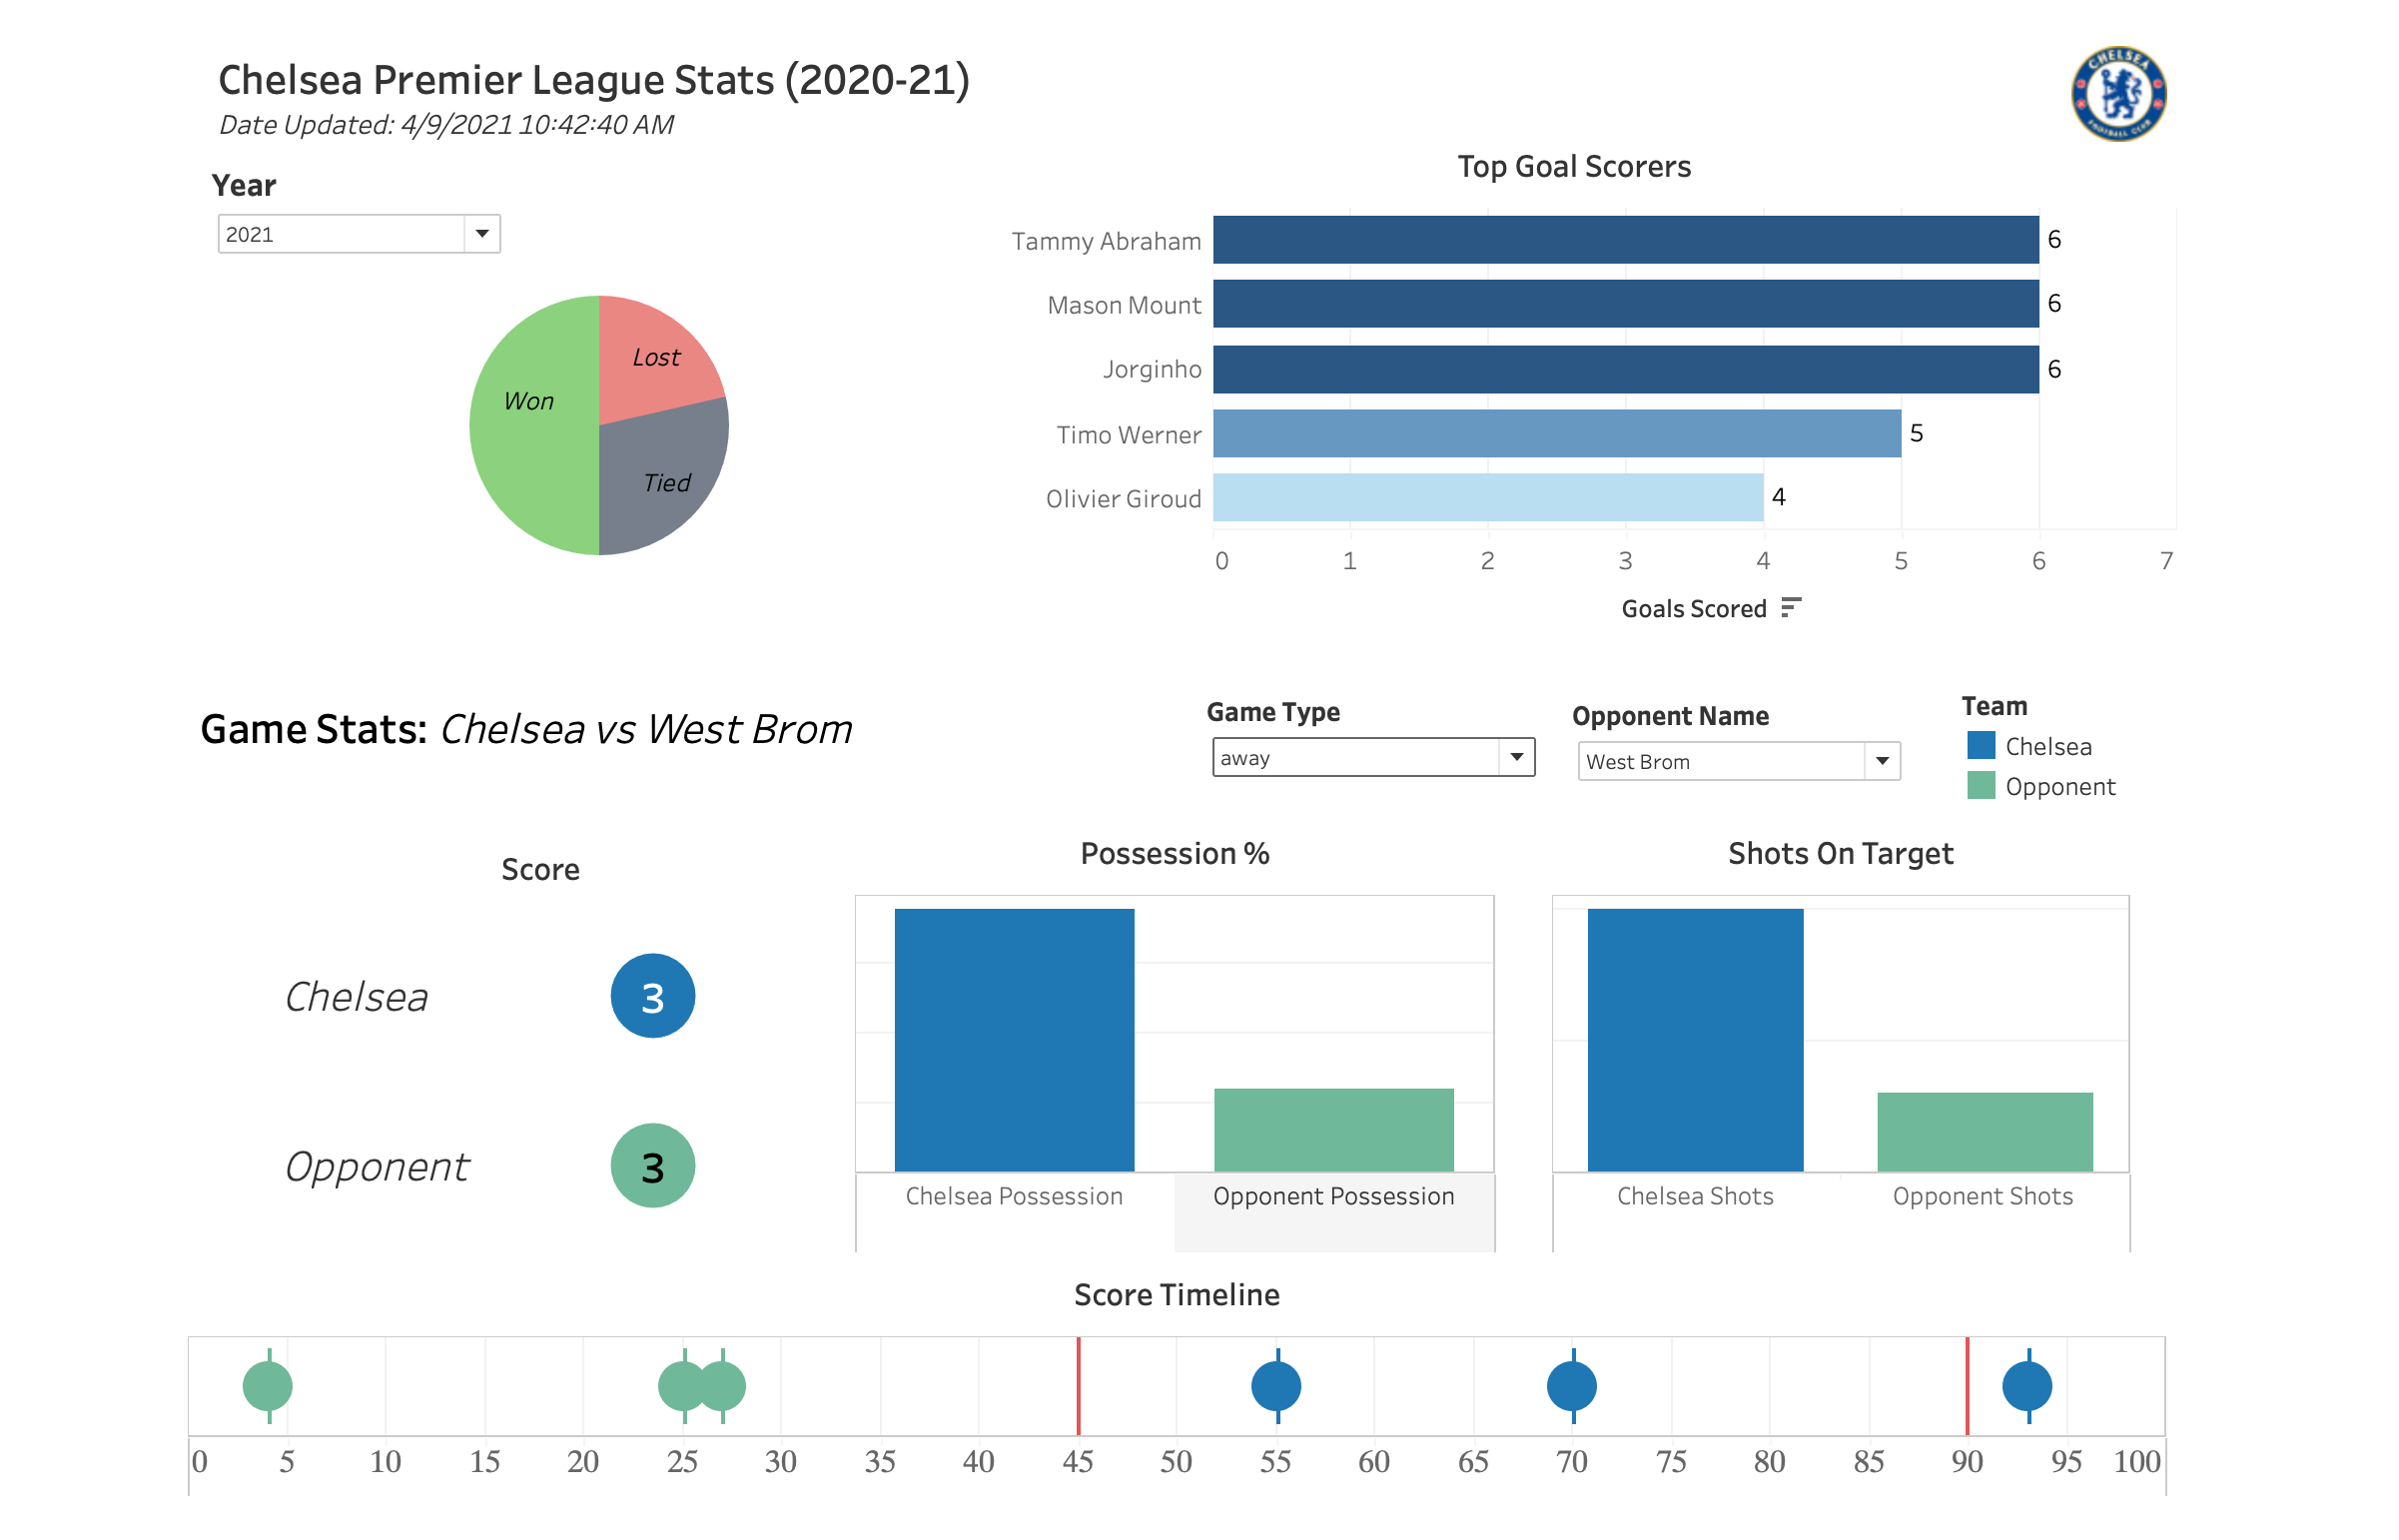

This screenshot's page, from the dashboard's own definition file:
{"tool":"tableau","page":{"name":"Chelsea Dashboard","canvas":[1024,768],"ordinal":0},"visuals":[{"type":"worksheet","box":[0,0,1024,768]},{"type":"worksheet","param":"horz","box":[8,8,1008,752]},{"type":"worksheet","box":[8,8,1008,752]},{"type":"worksheet","title":"Header","mark":"Automatic","box":[8,8,1008,752]},{"type":"worksheet","param":"/Users/onkar/dev/github/epl_dash/dashboard/ChelseaLogo.png","box":[944,14,57,48]},{"type":"worksheet","title":"Top","mark":"Automatic","rows":["PlayerName (players.csv1)"],"cols":["PlayerName (players.csv1)"],"box":[394,59,603,252]},{"type":"worksheet","title":"Results","mark":"Pie","param":"[federated.1bxjs3q0un518j14tn4vx160jbp3].[yr:Date:ok]","box":[13,73,148,81]},{"type":"worksheet","title":"Goals","mark":"Pie","param":"[federated.1bxjs3q0un518j14tn4vx160jbp3].[:Measure Names]","box":[889,335,134,59]},{"type":"worksheet","title":"Dyna","mark":"Automatic","box":[3,336,1018,63]},{"type":"worksheet","title":"Dyna","mark":"Automatic","param":"[federated.1bxjs3q0un518j14tn4vx160jbp3].[none:GameType:nk]","box":[511,338,168,53]},{"type":"worksheet","title":"Poss","mark":"Automatic","cols":["TeamName"],"param":"[federated.1bxjs3q0un518j14tn4vx160jbp3].[none:TeamName:nk]","box":[694,340,168,53]},{"type":"worksheet","title":"Poss","mark":"Automatic","cols":["TeamName"],"box":[335,403,321,216]},{"type":"worksheet","title":"Shots","mark":"Automatic","cols":["TeamName"],"box":[684,403,290,216]},{"type":"worksheet","title":"Goals","mark":"Pie","box":[42,411,332,211]},{"type":"worksheet","title":"TimeLine","mark":"Circle","cols":["Minute","Minute"],"box":[1,624,991,133]}]}

Visuals, with their boxes on the page's 1024x768 design canvas (x1, y1, x2, y2). These are canvas units, not pixel positions in the 2399x1540 screenshot, which may show the page scaled, cropped or inside an application window:
worksheet: crop(0, 0, 1024, 768)
worksheet: crop(8, 8, 1016, 760)
worksheet: crop(8, 8, 1016, 760)
"Header" worksheet: crop(8, 8, 1016, 760)
worksheet: crop(944, 14, 1001, 62)
"Top" worksheet: crop(394, 59, 997, 311)
"Results" worksheet (Pie marks): crop(13, 73, 161, 154)
"Goals" worksheet (Pie marks): crop(889, 335, 1023, 394)
"Dyna" worksheet: crop(3, 336, 1021, 399)
"Dyna" worksheet: crop(511, 338, 679, 391)
"Poss" worksheet: crop(694, 340, 862, 393)
"Poss" worksheet: crop(335, 403, 656, 619)
"Shots" worksheet: crop(684, 403, 974, 619)
"Goals" worksheet (Pie marks): crop(42, 411, 374, 622)
"TimeLine" worksheet (Circle marks): crop(1, 624, 992, 757)
